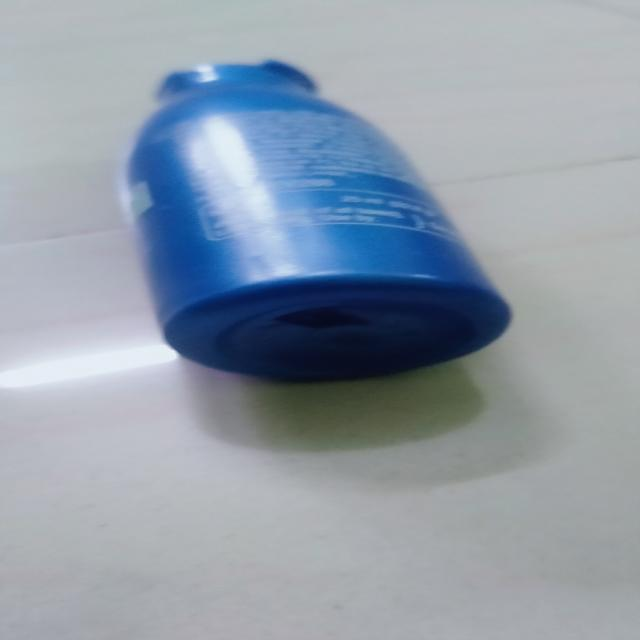oil: (135, 47, 507, 390)
